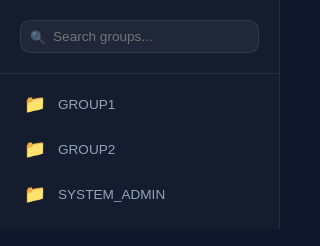
Test: GroupSidebar › should filter groups based on search term
Type "SYSTEM" into the field with placeholder "Search groups...".
click(140, 36); type("SYSTEM")  # box [20,20,259,53]
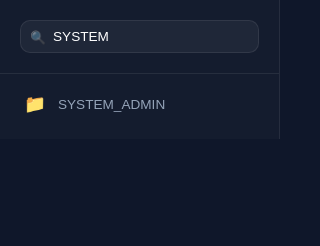
Expected: the text "SYSTEM_ADMIN" is shown, [58,97,165,112]
Expected: the button "GROUP1" is gone
